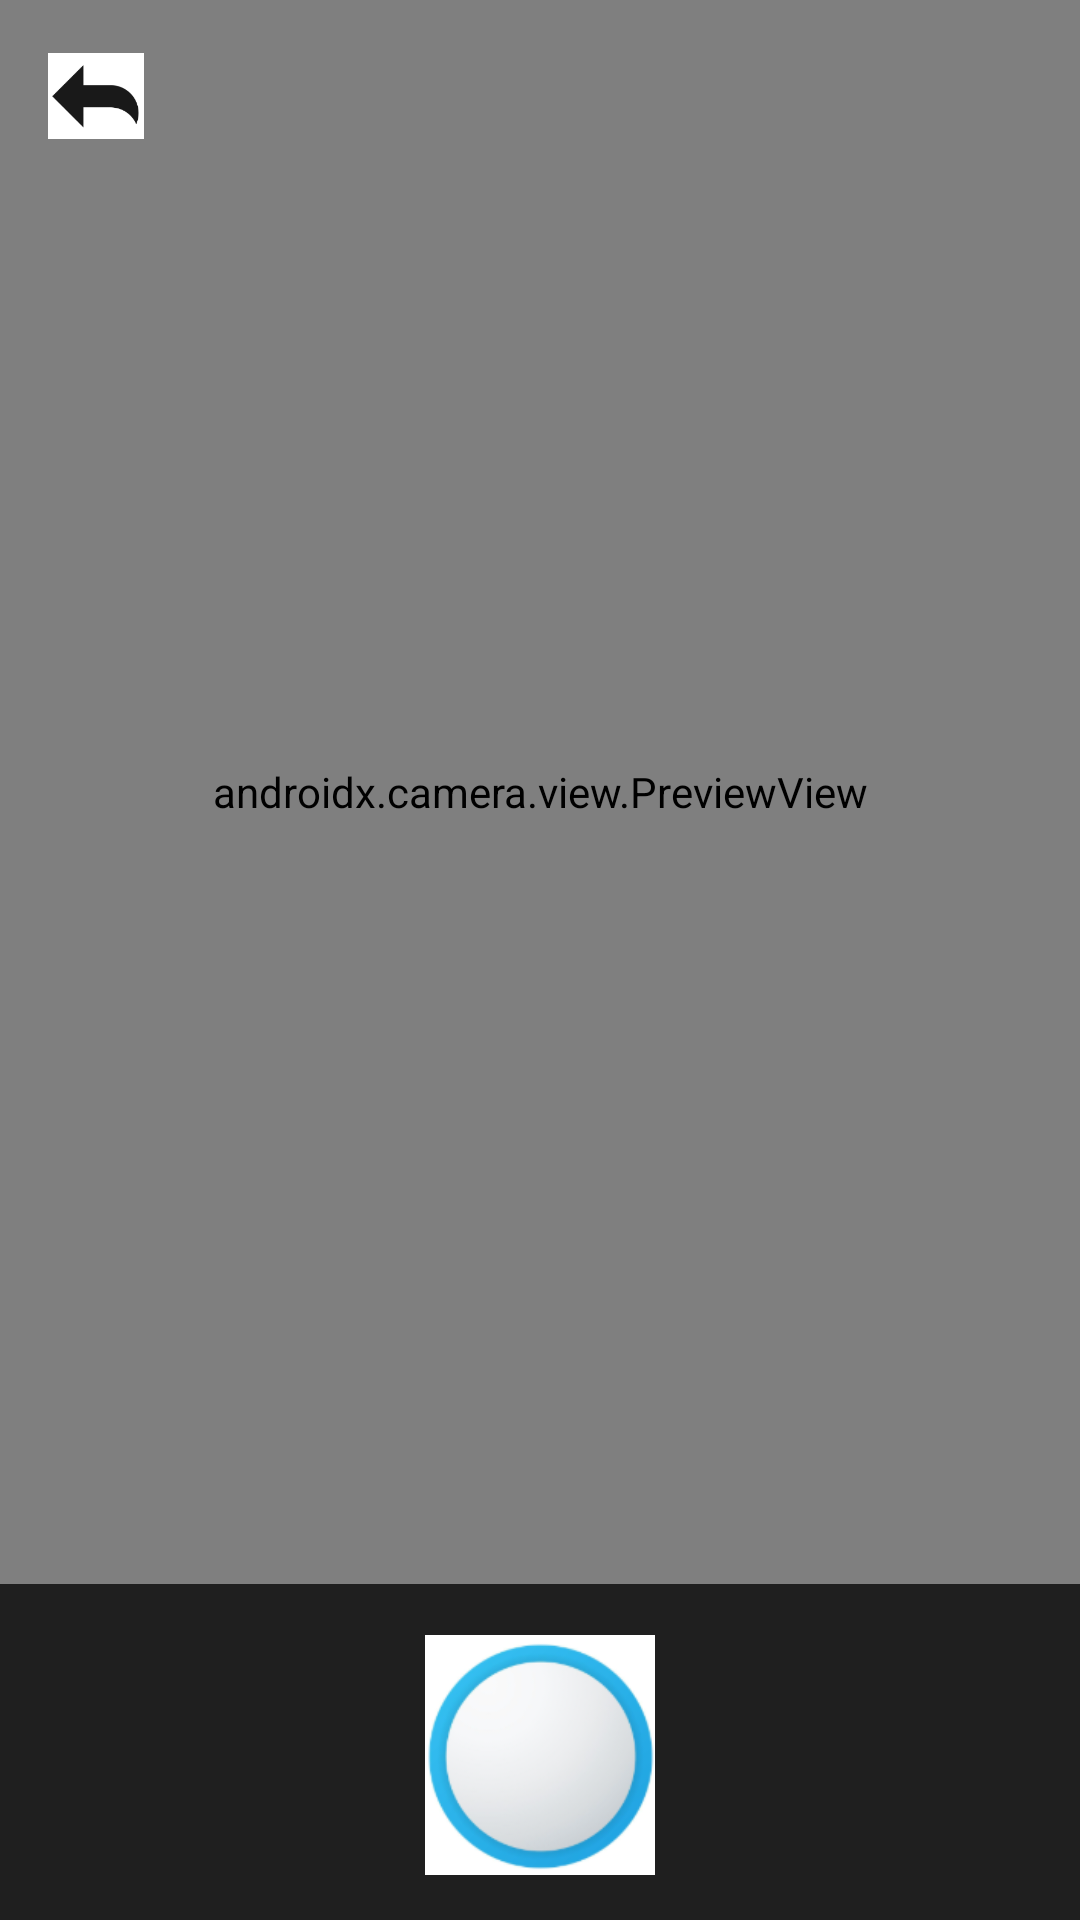

Icons on this 1080 x 1920 Android screen, each with the point to tap as (x,y):
back: (96,96)
shutter: (540,1755)
